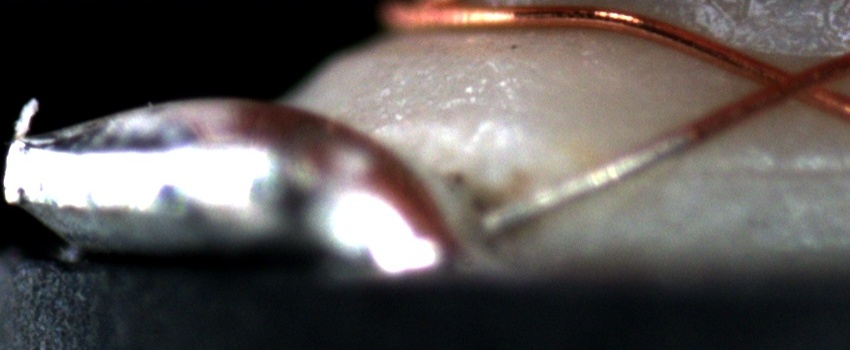CL: (747, 56, 833, 113)
DL: (666, 141, 850, 198)
TS: (483, 132, 691, 239)
